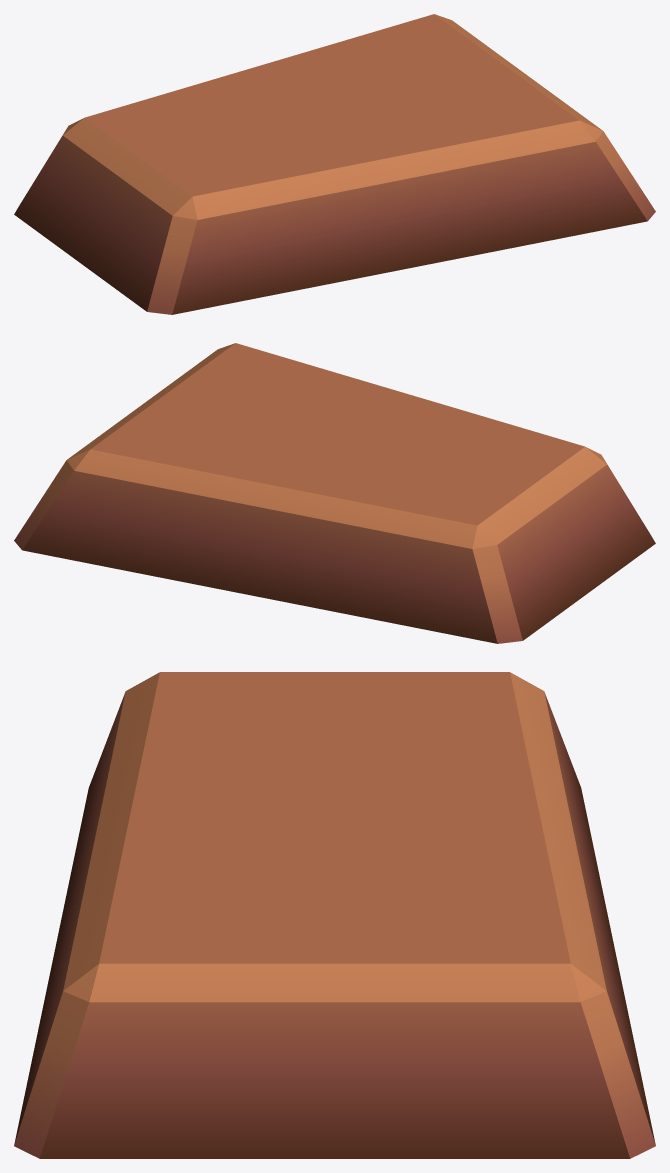
The model's file is Roadstones-2-5.fbx.
3 views of the same model, one above another, from view 1: azimuth 30°, elevation 25°; view 2: azimuth 150°, elevation 25°; view 3: azimuth 270°, elevation 25° (orthographic). The views are drawn at different scales.
Parts seen in each view (by area): view 1: Roadstones-2-5; view 2: Roadstones-2-5; view 3: Roadstones-2-5.
Boxes of the visible parts, left/top/right/bottom form: Roadstones-2-5: left=14, top=14, right=655, bottom=314; Roadstones-2-5: left=14, top=343, right=655, bottom=643; Roadstones-2-5: left=14, top=672, right=655, bottom=1158.
Bounding box in the file's own units: 99.29 × 18.02 × 70.24.
